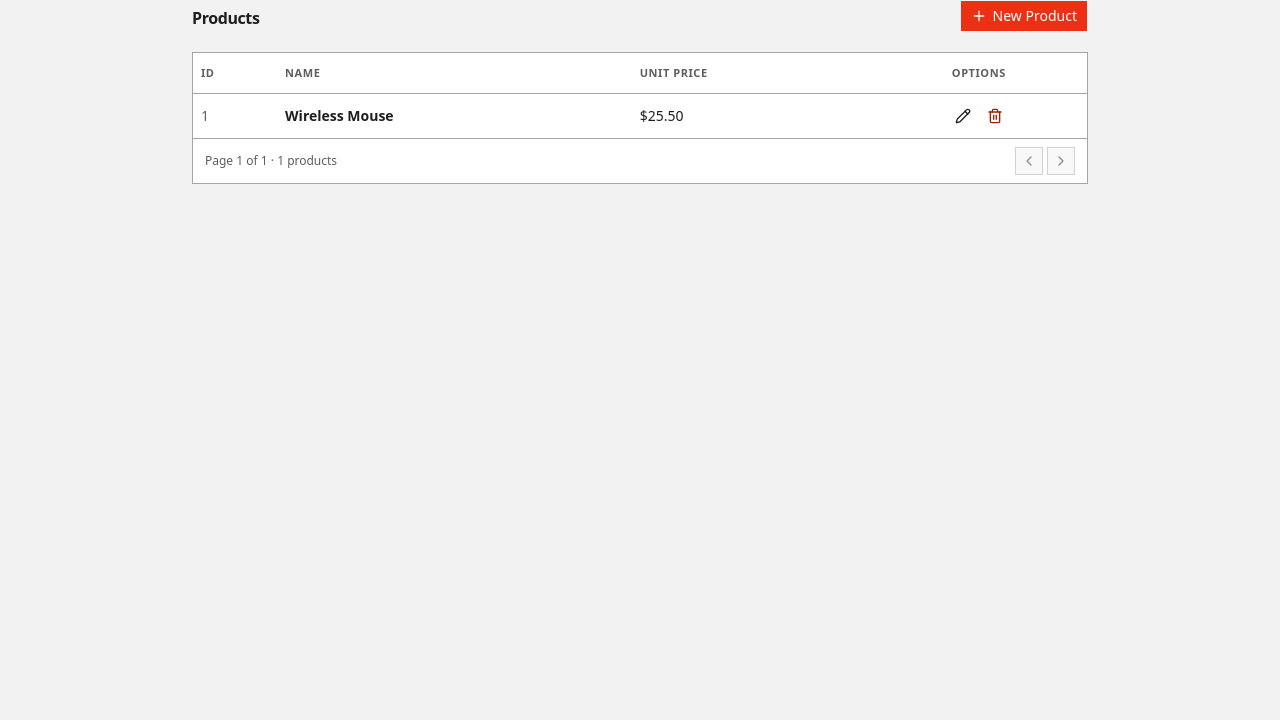
Products page › creates a product and closes the dialog on success
Expected: the text "Wireless Mouse" is shown, top-left (277, 93), bottom-right (632, 138)
Step 1. Click the button "New Product" → (1024, 16), box top-left (960, 0), bottom-right (1088, 32)
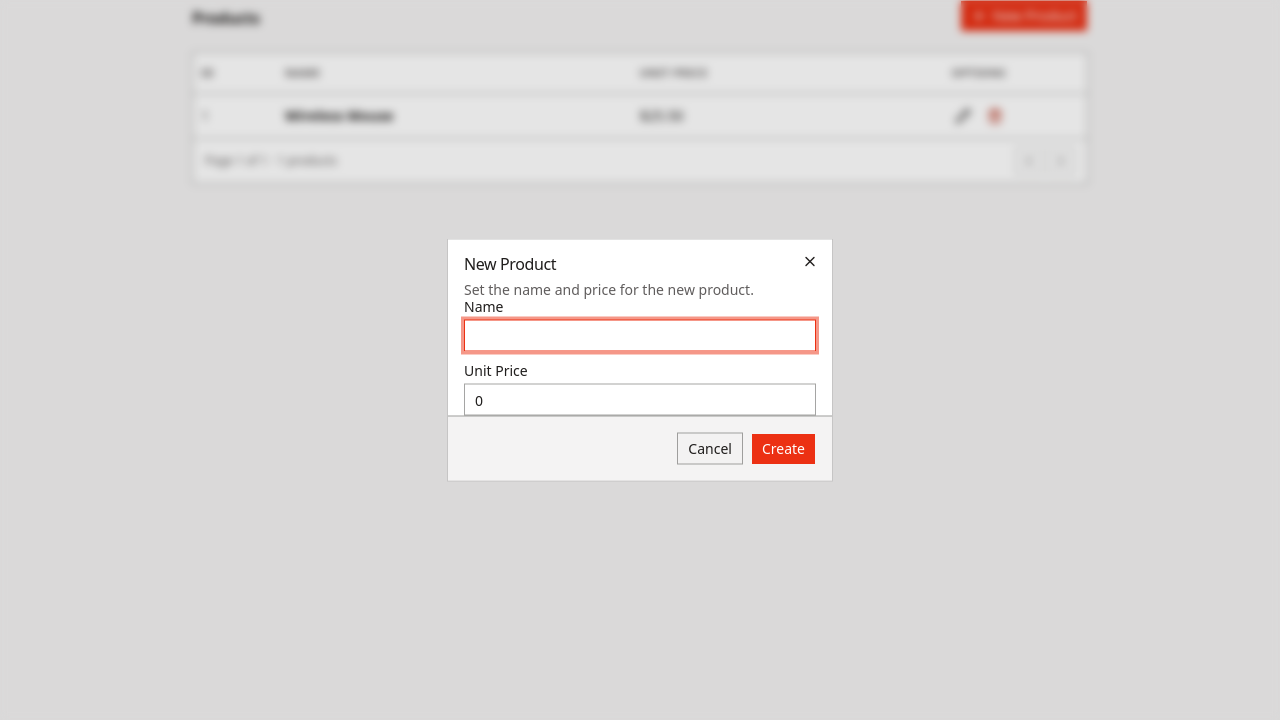
Step 2. Type "Keyboard" into the field labelled "Name" → (640, 336), box top-left (464, 320), bottom-right (816, 352)
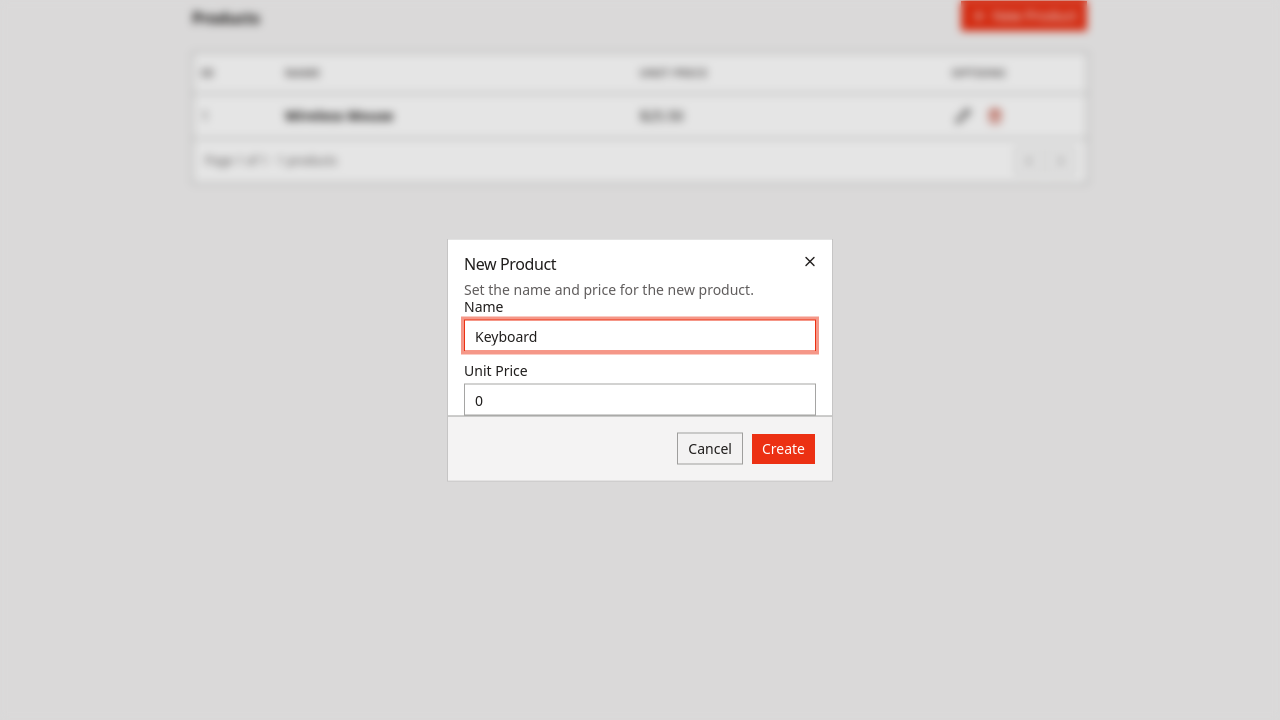
Step 3. Type "89.99" into the number field labelled "Unit Price" → (640, 400), box top-left (464, 384), bottom-right (816, 416)
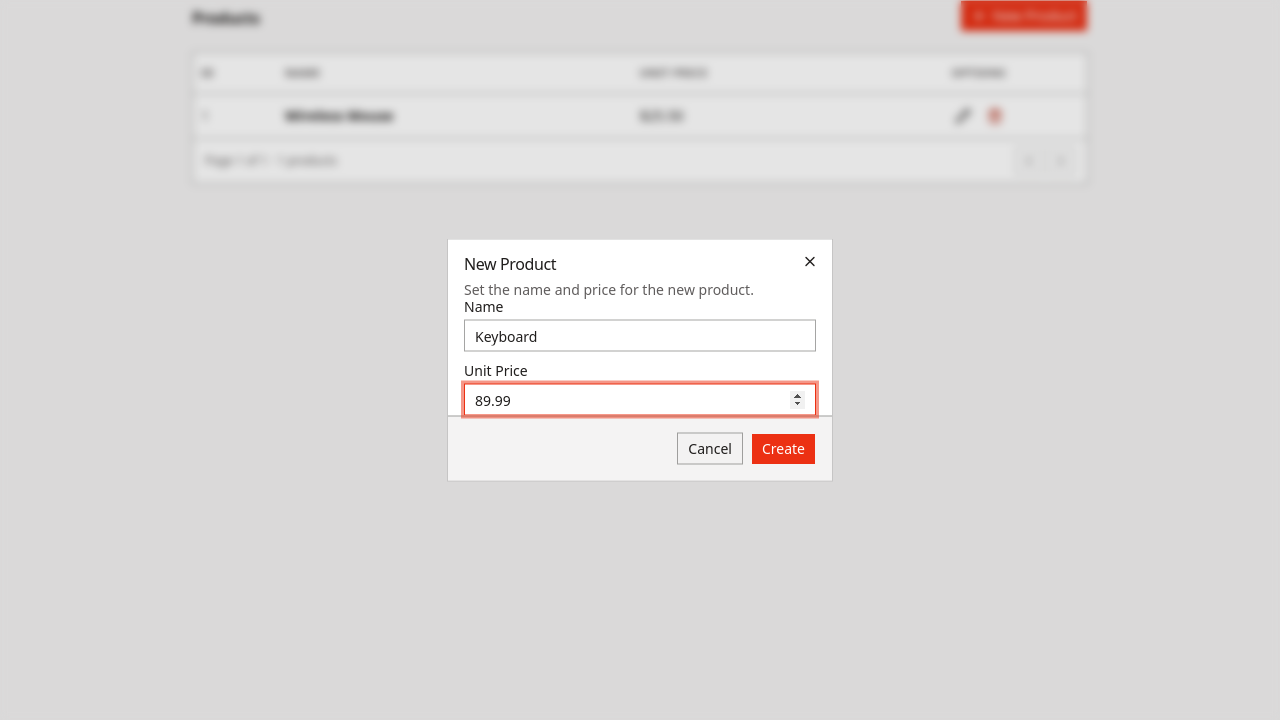
Step 4. Click the button "Create" → (783, 448), box top-left (751, 432), bottom-right (816, 464)
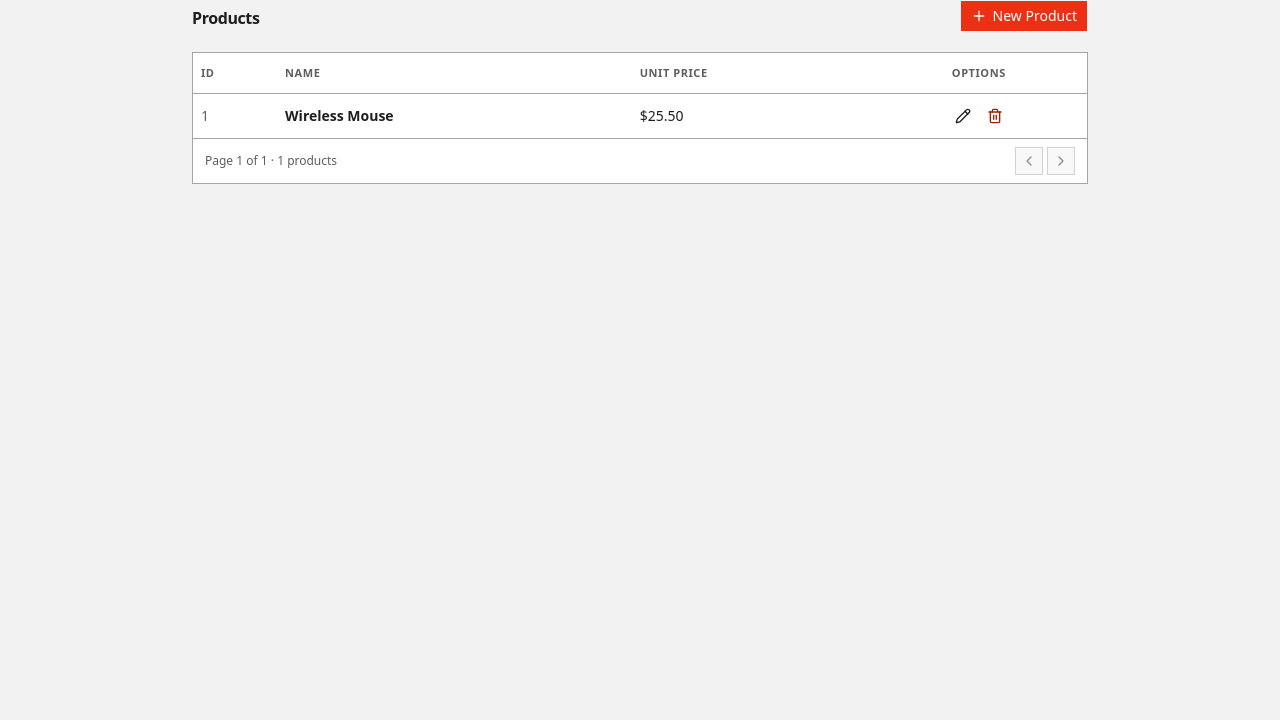
Now the dialog is gone
